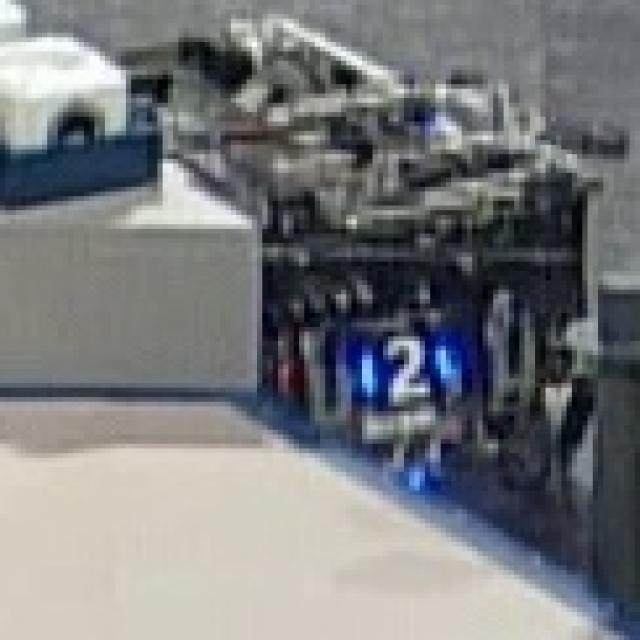B2: (333, 324, 454, 408)
